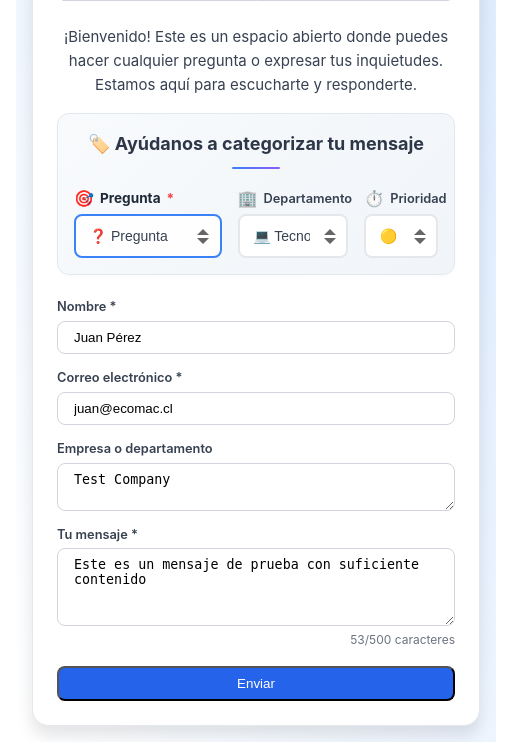
Scenario: InicioPlataformaWhy › Envío de formulario › debe mostrar estado de loading durante el envío
(page scrolled)
Click the button with class "boton-enviar".
click(256, 683)  # box 57,666 -> 455,700
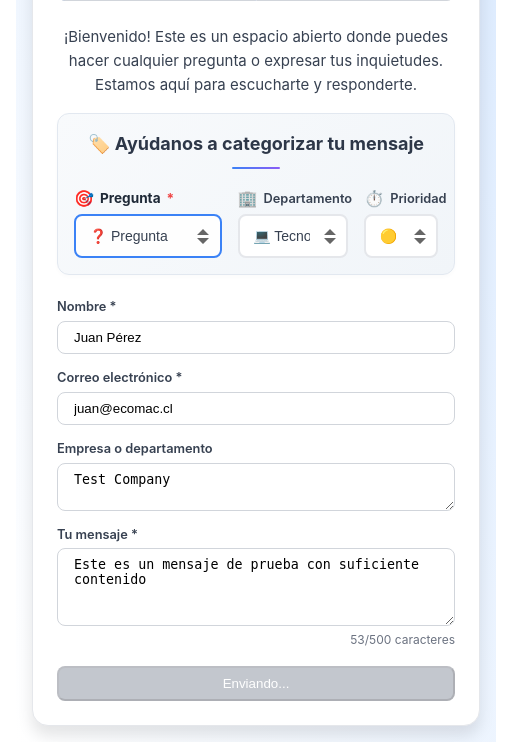
Now the button with class "boton-enviar" reads "Enviando...", box 57,666 -> 455,700
